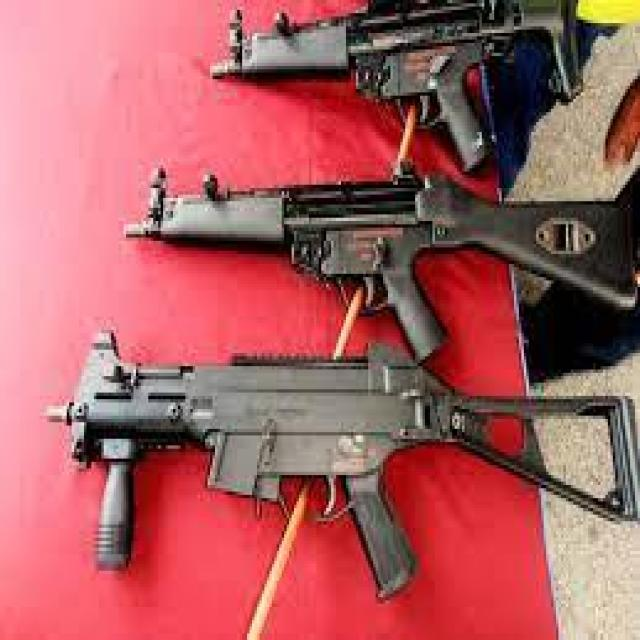Gun: (22, 302, 633, 640)
